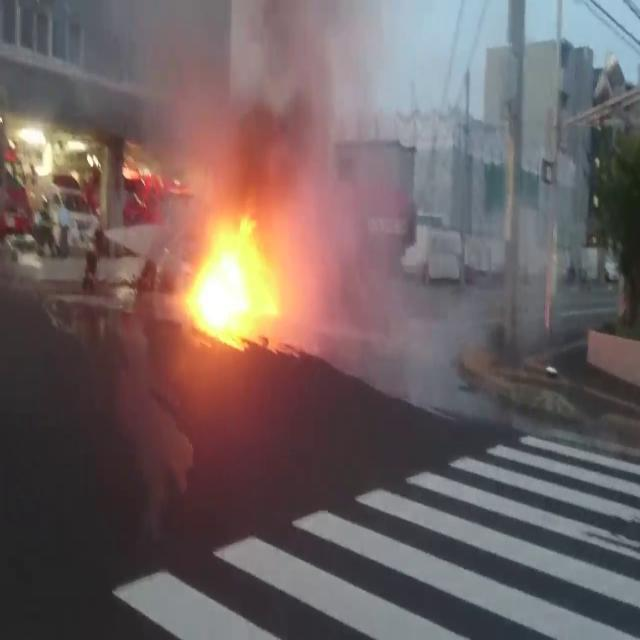Fire: (190, 218, 278, 306)
Smoke: (103, 10, 411, 330), (237, 0, 362, 171)
